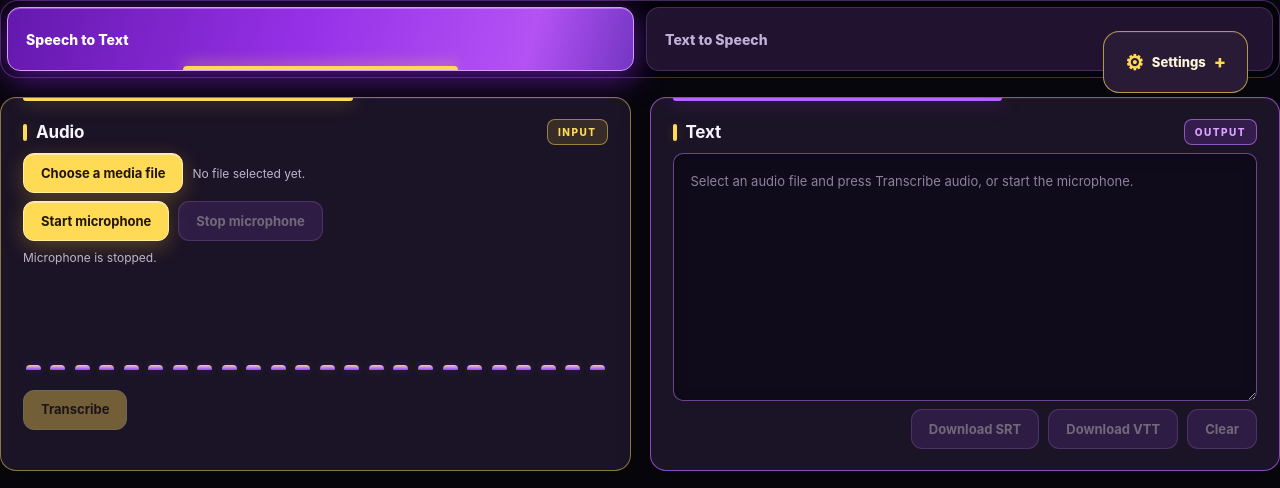
Test: bidirectional HomeScreen › shows generated audio and allows WAV download
Click the button "Text to Speech" at (716, 39), box [646,7,1273,71]
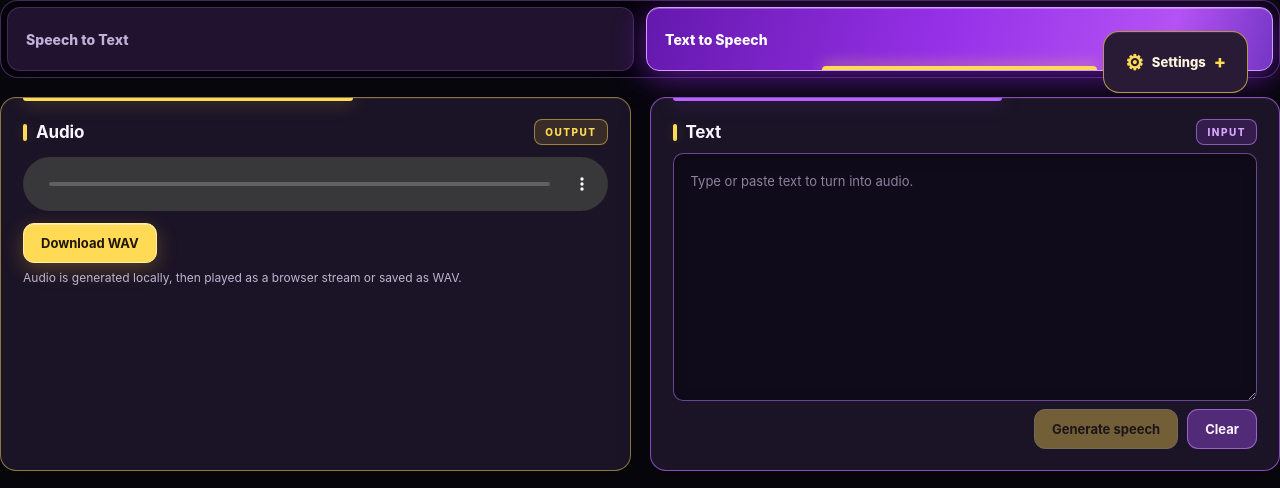
Expected: the element named "Generated speech" is shown, [23,157,608,211]
